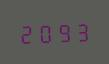nine: (54, 20, 71, 43)
three: (72, 19, 89, 42)
two: (18, 21, 35, 44)
zero: (36, 20, 53, 44)
